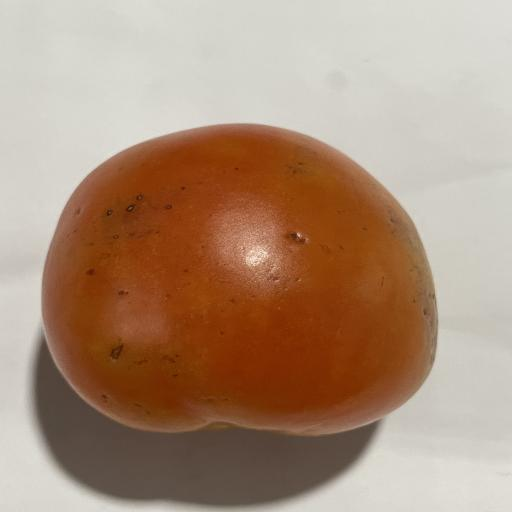ripe: (42, 124, 437, 435)
